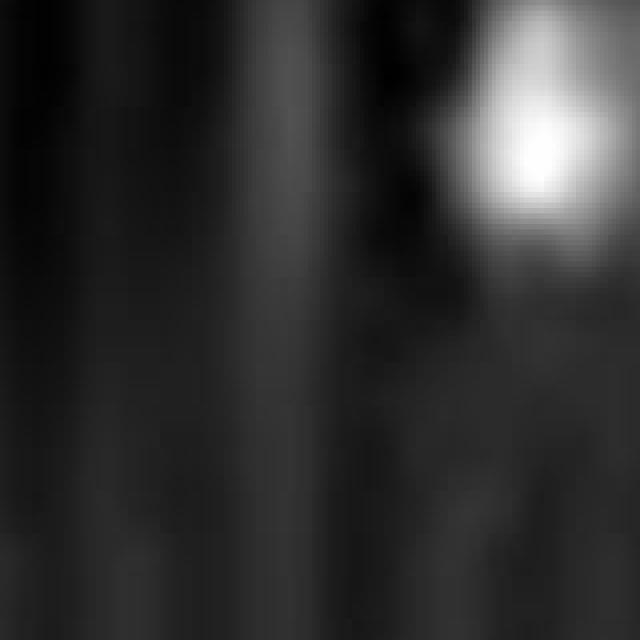person: (413, 1, 640, 294)
